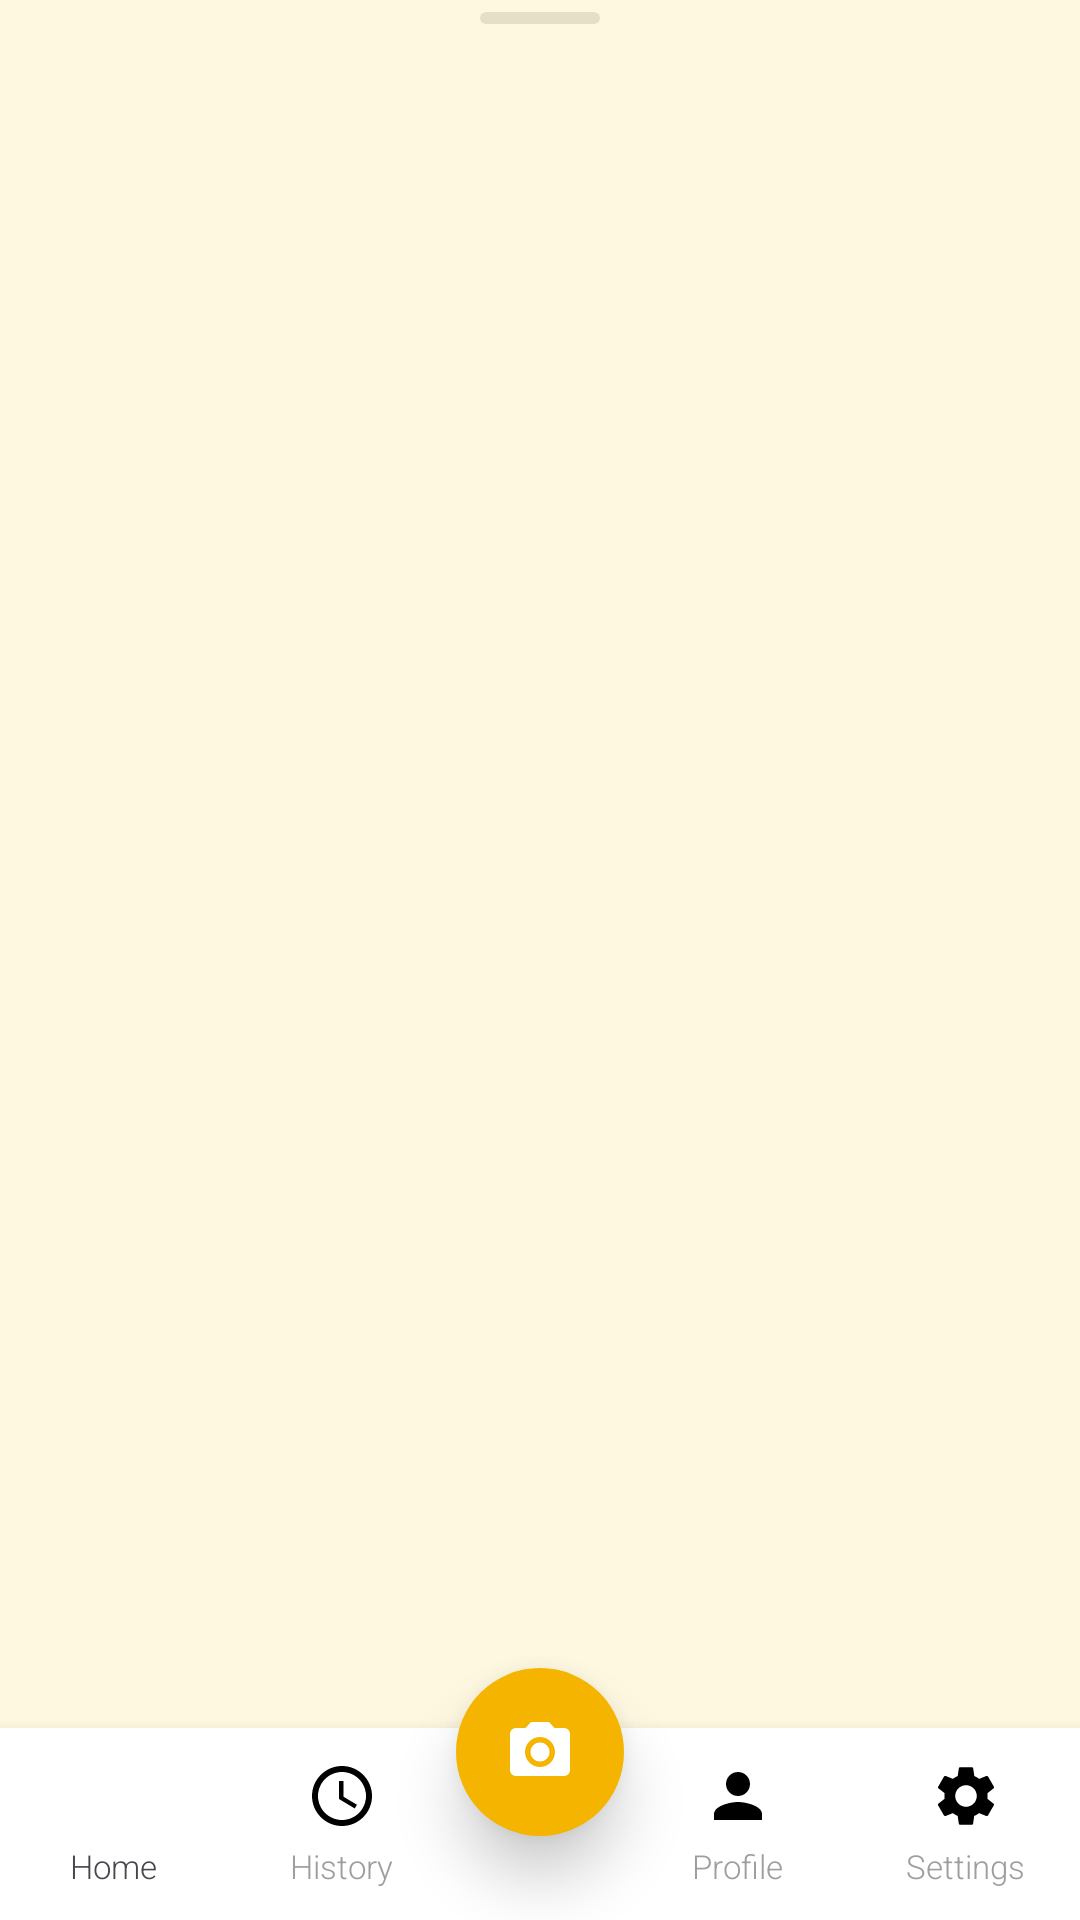

Icons on this 1080w x 1920h Android screen, each with its box as (x1, y1, x2, y2):
camera: (510, 1722, 570, 1776)
clock: (312, 1766, 372, 1826)
